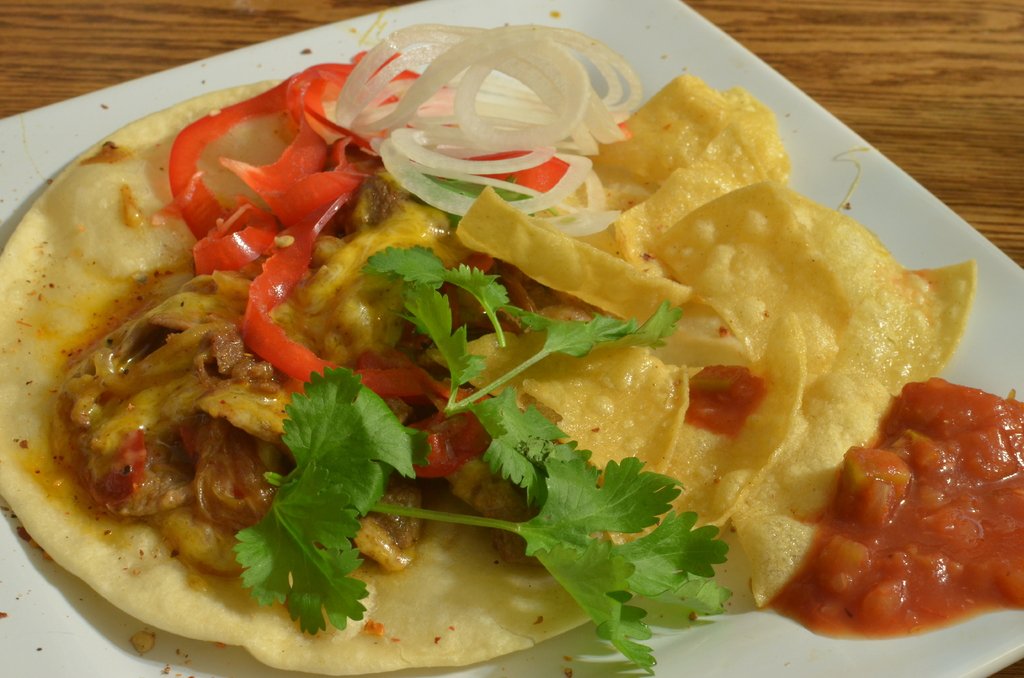taco: (0, 75, 687, 675)
